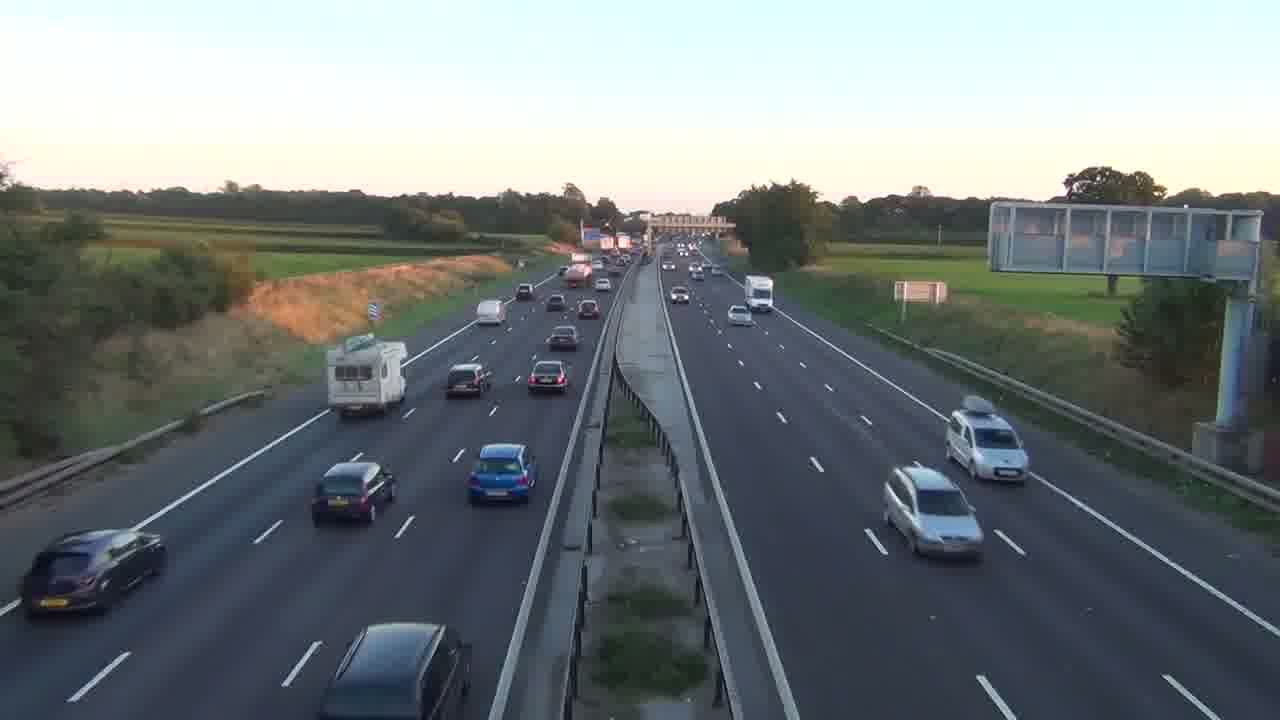car: (316, 620, 472, 717), (19, 526, 168, 619), (882, 461, 985, 561), (311, 459, 397, 523), (465, 443, 538, 504), (527, 359, 570, 394), (546, 324, 580, 351), (728, 304, 753, 326), (577, 297, 600, 319), (545, 292, 568, 312)
truck: (326, 337, 407, 418), (744, 274, 774, 312), (477, 298, 506, 325)
